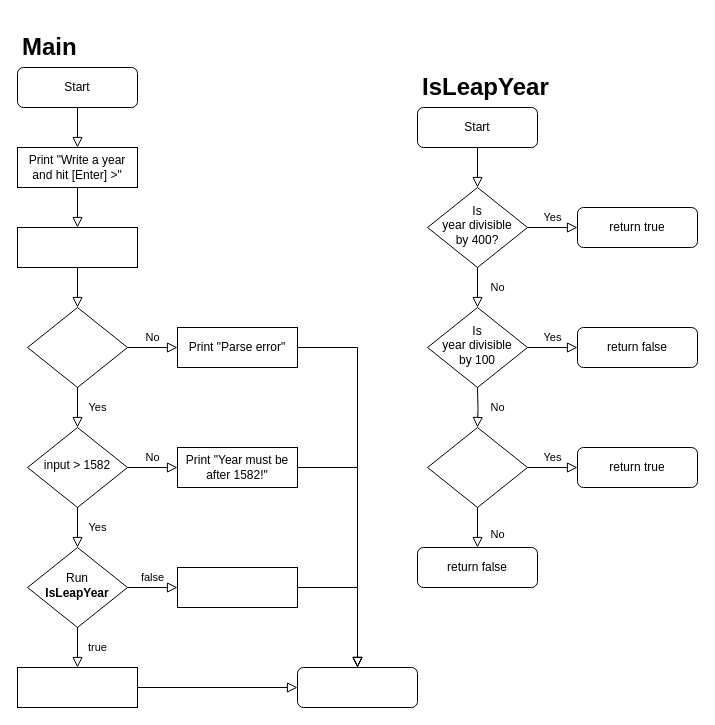
This 715x725 diagram has some shape labels left out. Each missing label, with the centre of its shape:
End: (357,687)
Input successfully parsed: (77,347)
Is year divisible by 4: (477,467)
Print "nay": (237,587)
Print "yay": (77,687)
Read user input and try to parse it to an int: (77,247)
